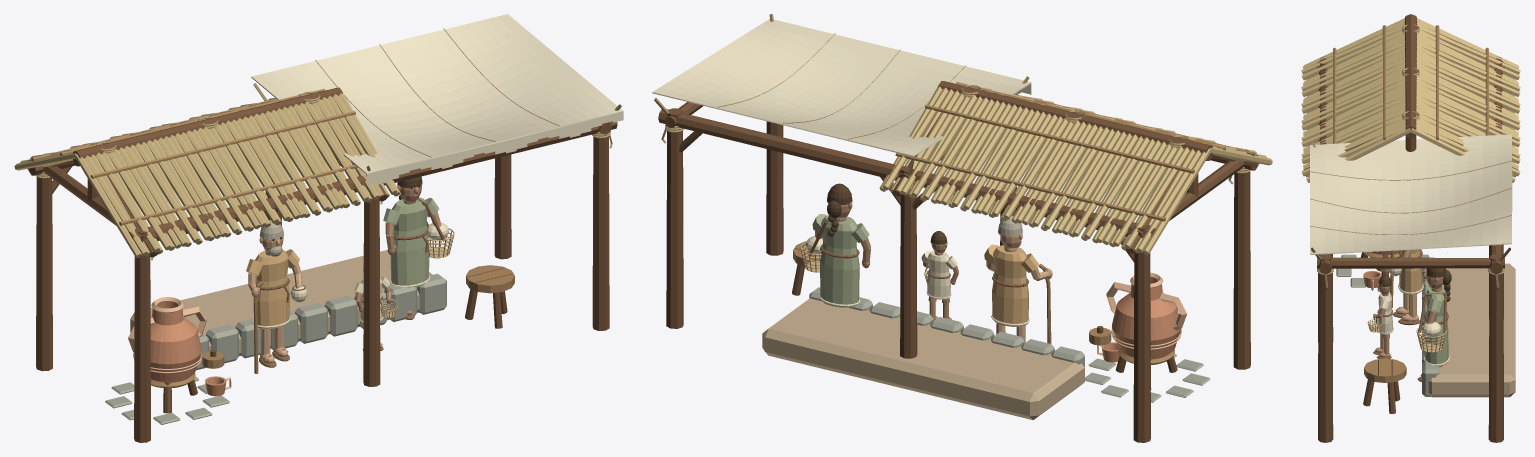
3 views of the same model, side by side, from view 1: azimuth 30°, elevation 25°; view 2: azimuth 150°, elevation 25°; view 3: azimuth 270°, elevation 25° (orthographic). The views are drawn at different scales.
Parts seen in each view (by area): view 1: BA-0096 batched; view 2: BA-0096 batched; view 3: BA-0096 batched.
Part boxes in pixels (bbox=[...]): BA-0096 batched: bbox=[14, 14, 623, 442]; BA-0096 batched: bbox=[652, 14, 1272, 442]; BA-0096 batched: bbox=[1301, 14, 1520, 442].
Size of the model in its own units: 5.78 by 2.9 by 2.57.
